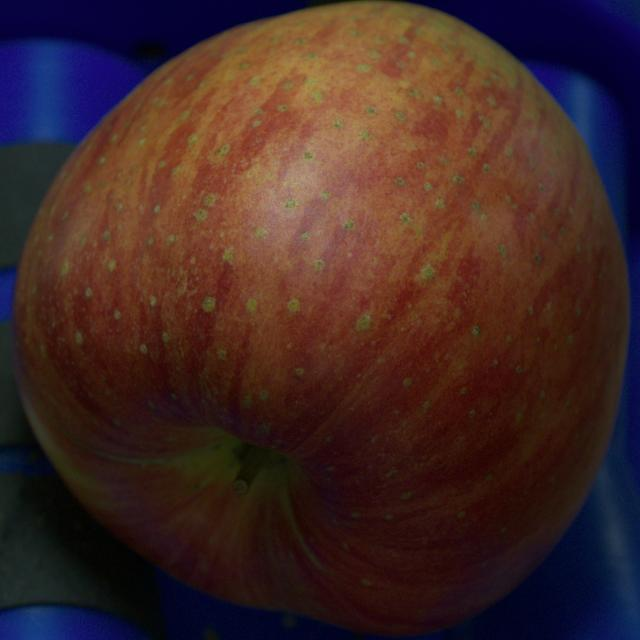apple: (12, 1, 629, 635)
